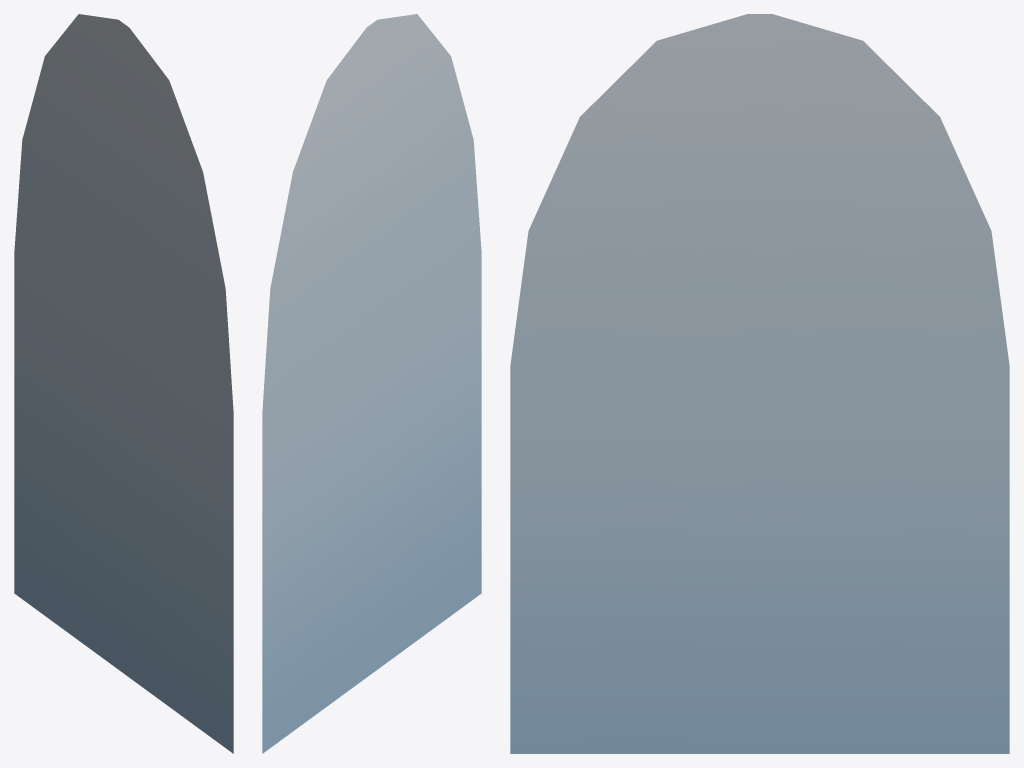
The model's file is Leuchtfeld_01.glb.
The picture shows the model from 3 angles, left to right: view 1: azimuth 30°, elevation 25°; view 2: azimuth 150°, elevation 25°; view 3: azimuth 270°, elevation 25°; orthographic projection. The views are drawn at different scales.
Parts seen in each view (by area): view 1: Cube.015; view 2: Cube.015; view 3: Cube.015.
Boxes of the visible parts, left/top/right/bottom form: Cube.015: left=14, top=14, right=233, bottom=753; Cube.015: left=262, top=14, right=481, bottom=753; Cube.015: left=510, top=14, right=1009, bottom=753.
Size of the model in its own units: 0 by 1.5 by 0.9169.
1 material, 1 textured.
